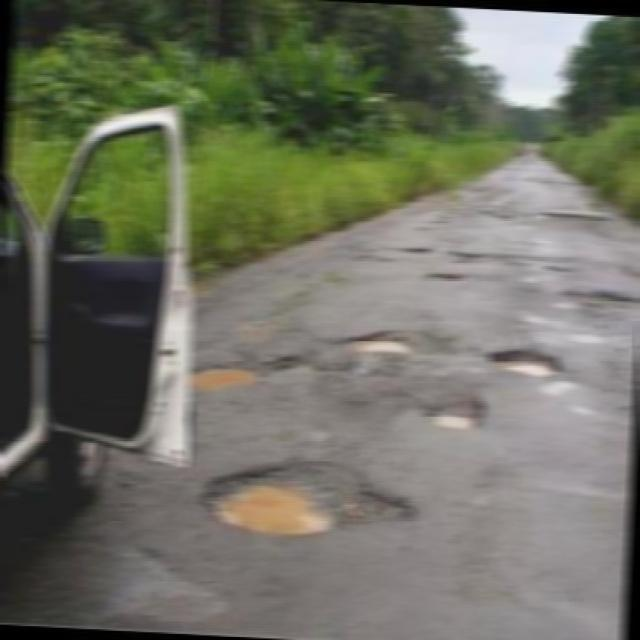Pothole: (198, 453, 434, 545), (194, 350, 306, 410), (320, 318, 436, 361), (475, 343, 571, 385), (556, 285, 639, 322), (421, 400, 501, 435), (479, 204, 527, 230), (542, 207, 615, 224), (423, 270, 479, 291), (396, 238, 436, 256), (452, 246, 486, 264)
